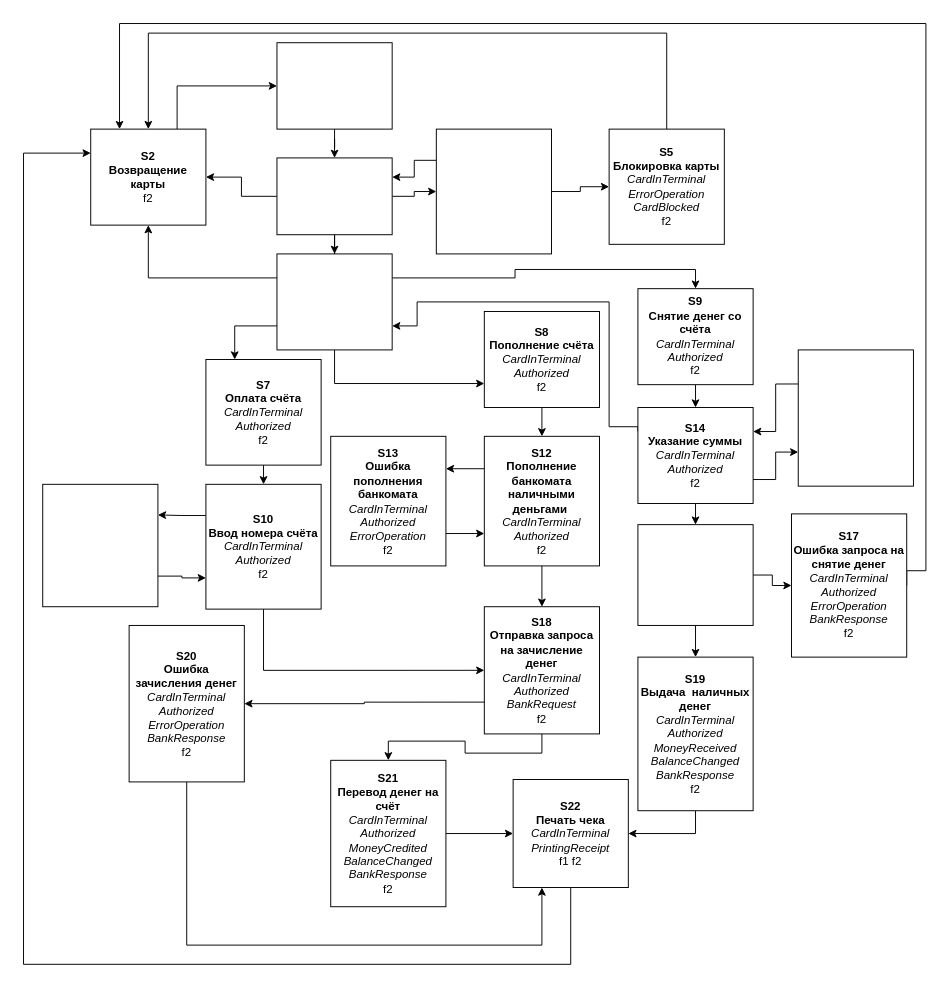
The diagram is 950 pixels wide and 989 high, and some of its shapes have lost their labels. The box of each missing label's shape, as (x1, y1, x2, y2) in pixels:
S1 Вставка карты в банкомат CardInTerminal f2: (276, 42, 392, 129)
S11 Ошибка указания номера счёта CardInTerminal Authorized ErrorOperation f2: (42, 483, 158, 607)
S15 Ошибка указания суммы CardInTerminal Authorized ErrorOperation f2: (797, 349, 913, 486)
S16 Отправка запроса на снятие денег CardInTerminal Authorized BankRequest f2: (637, 524, 753, 625)
S3 Ввод пинкода CardInTerminal f2: (276, 157, 392, 235)
S4 Ошибка ввода пинкода CardInTerminal ErrorOperation f2: (435, 128, 552, 254)
S6 Открытие меню CardInTerminal Authorized f2: (276, 253, 392, 350)
